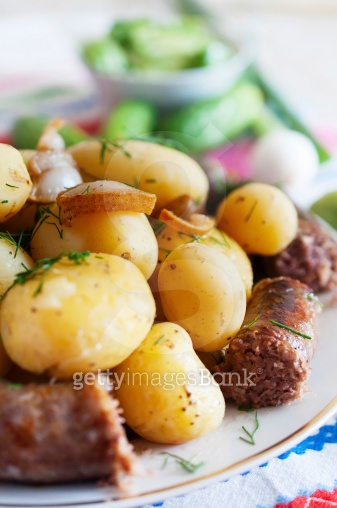boiled potatoes: (7, 255, 153, 380), (117, 323, 227, 441), (33, 194, 158, 277), (72, 138, 211, 200), (161, 245, 244, 346), (219, 183, 304, 254), (1, 140, 35, 224)
